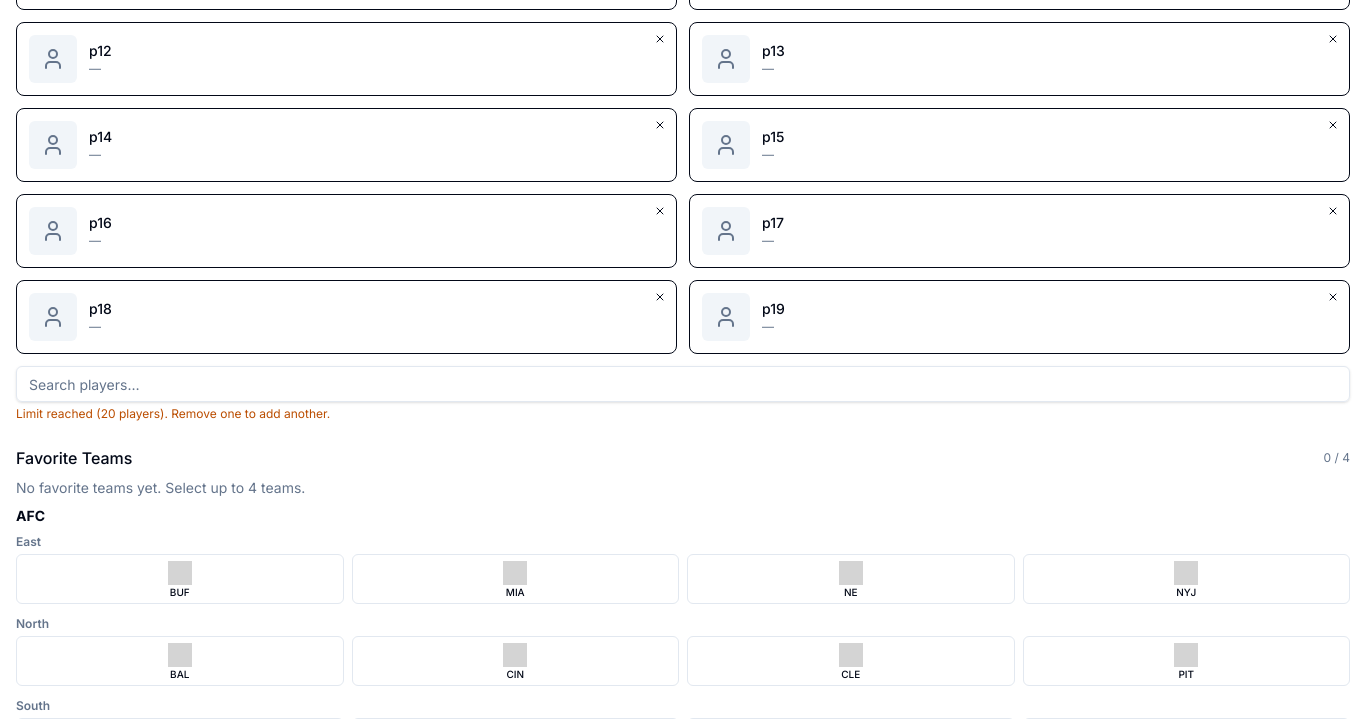
Test: FavoritesPanel › at-cap disables Add
This screenshot has width=1366, height=719.
(page scrolled)
Expected: the text "Limit reached (20 players). Remove one to add another." is shown, top-left (16, 406), bottom-right (330, 421)
In the field with placeholder "Search players…": (683, 384) top-left (16, 366), bottom-right (1350, 402), type "barkley"
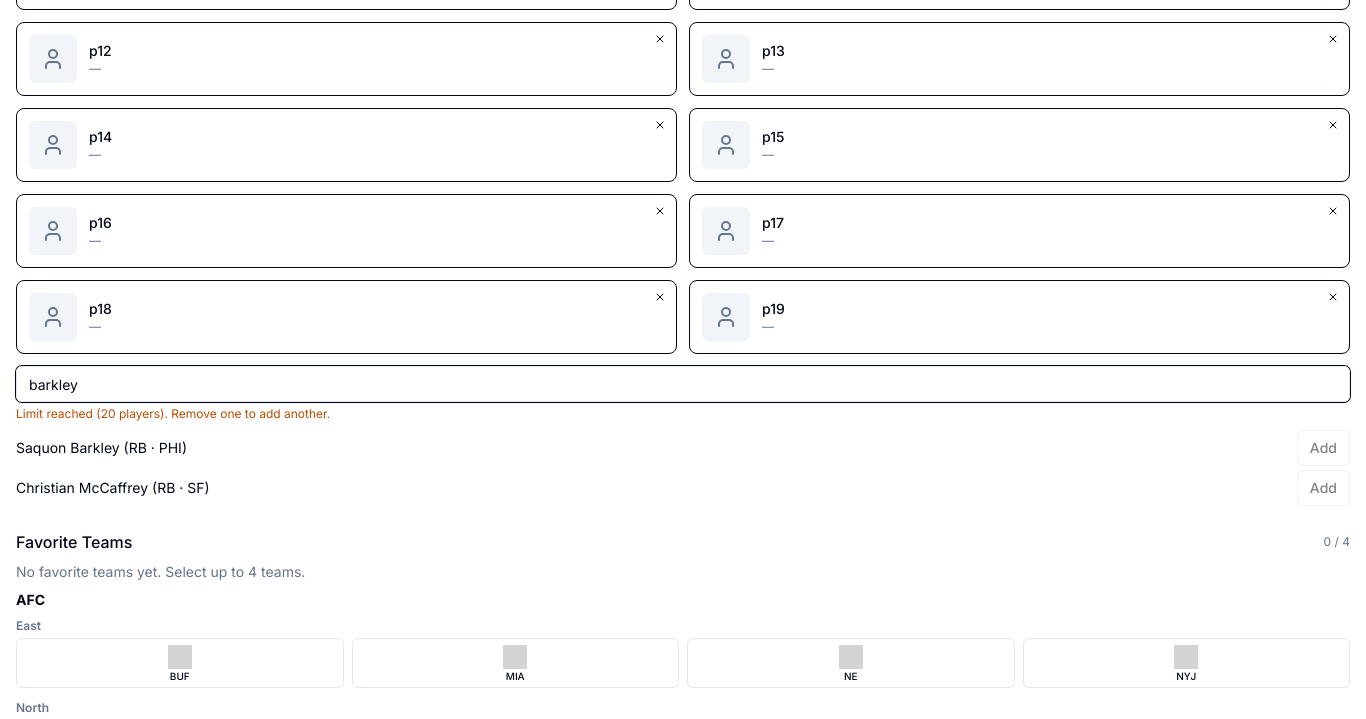
Expected: the button with aria-label "add saquon barkley" is disabled, top-left (1297, 430), bottom-right (1350, 466)
